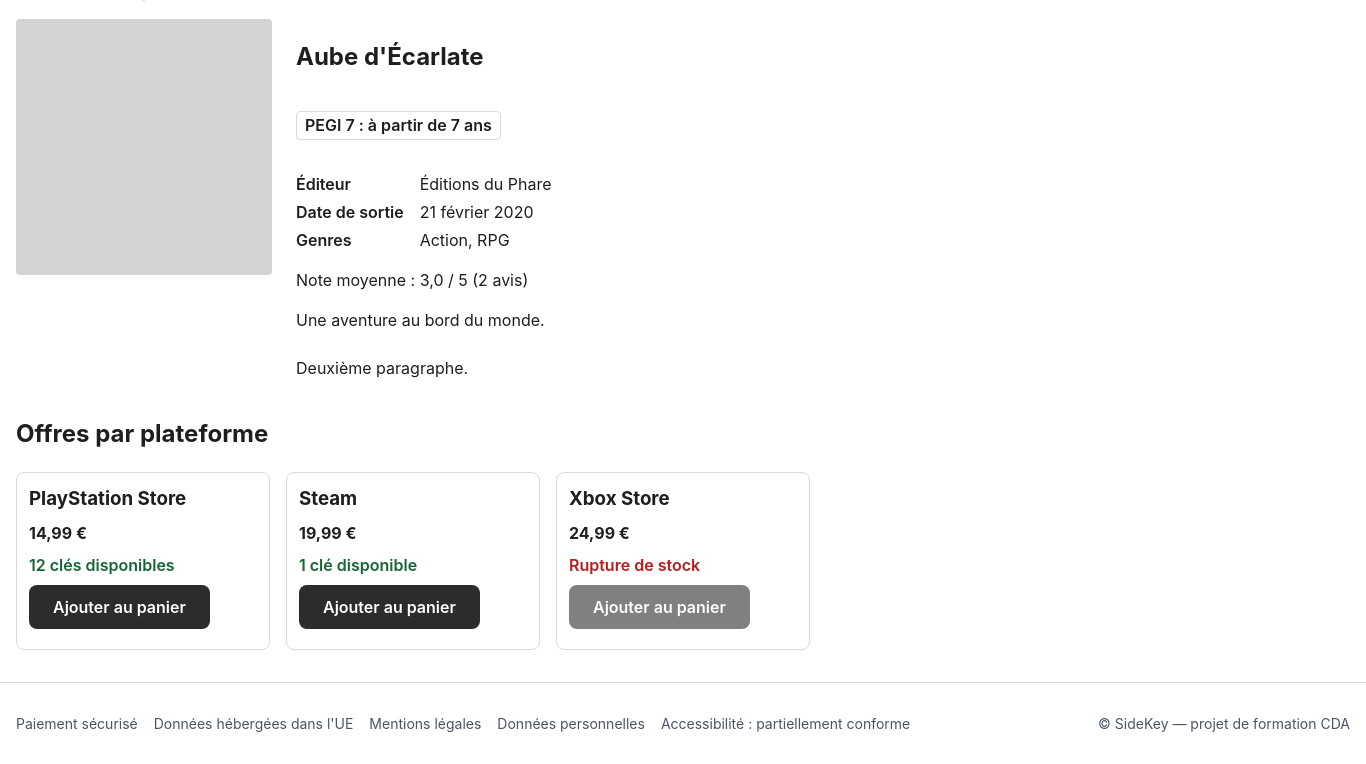
Test: E03 — fiche jeu › ajoute une clé de l’offre au panier et annonce le résultat
(page scrolled)
Click the button with aria-label "Ajouter au panier : Aube d'Écarlate sur Steam" at [389, 607], box [299, 585, 480, 629]
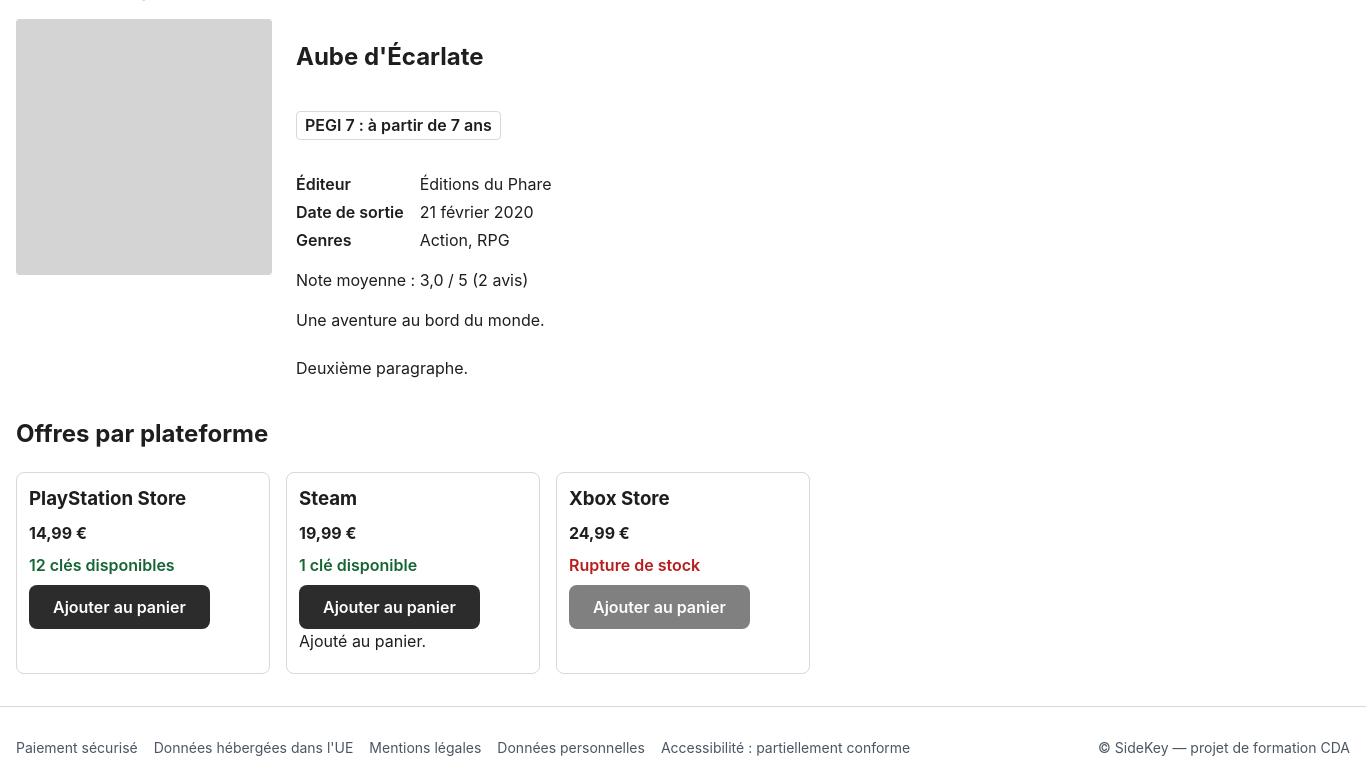
Check: the text "Ajouté au panier." is shown, box [299, 631, 426, 651]
